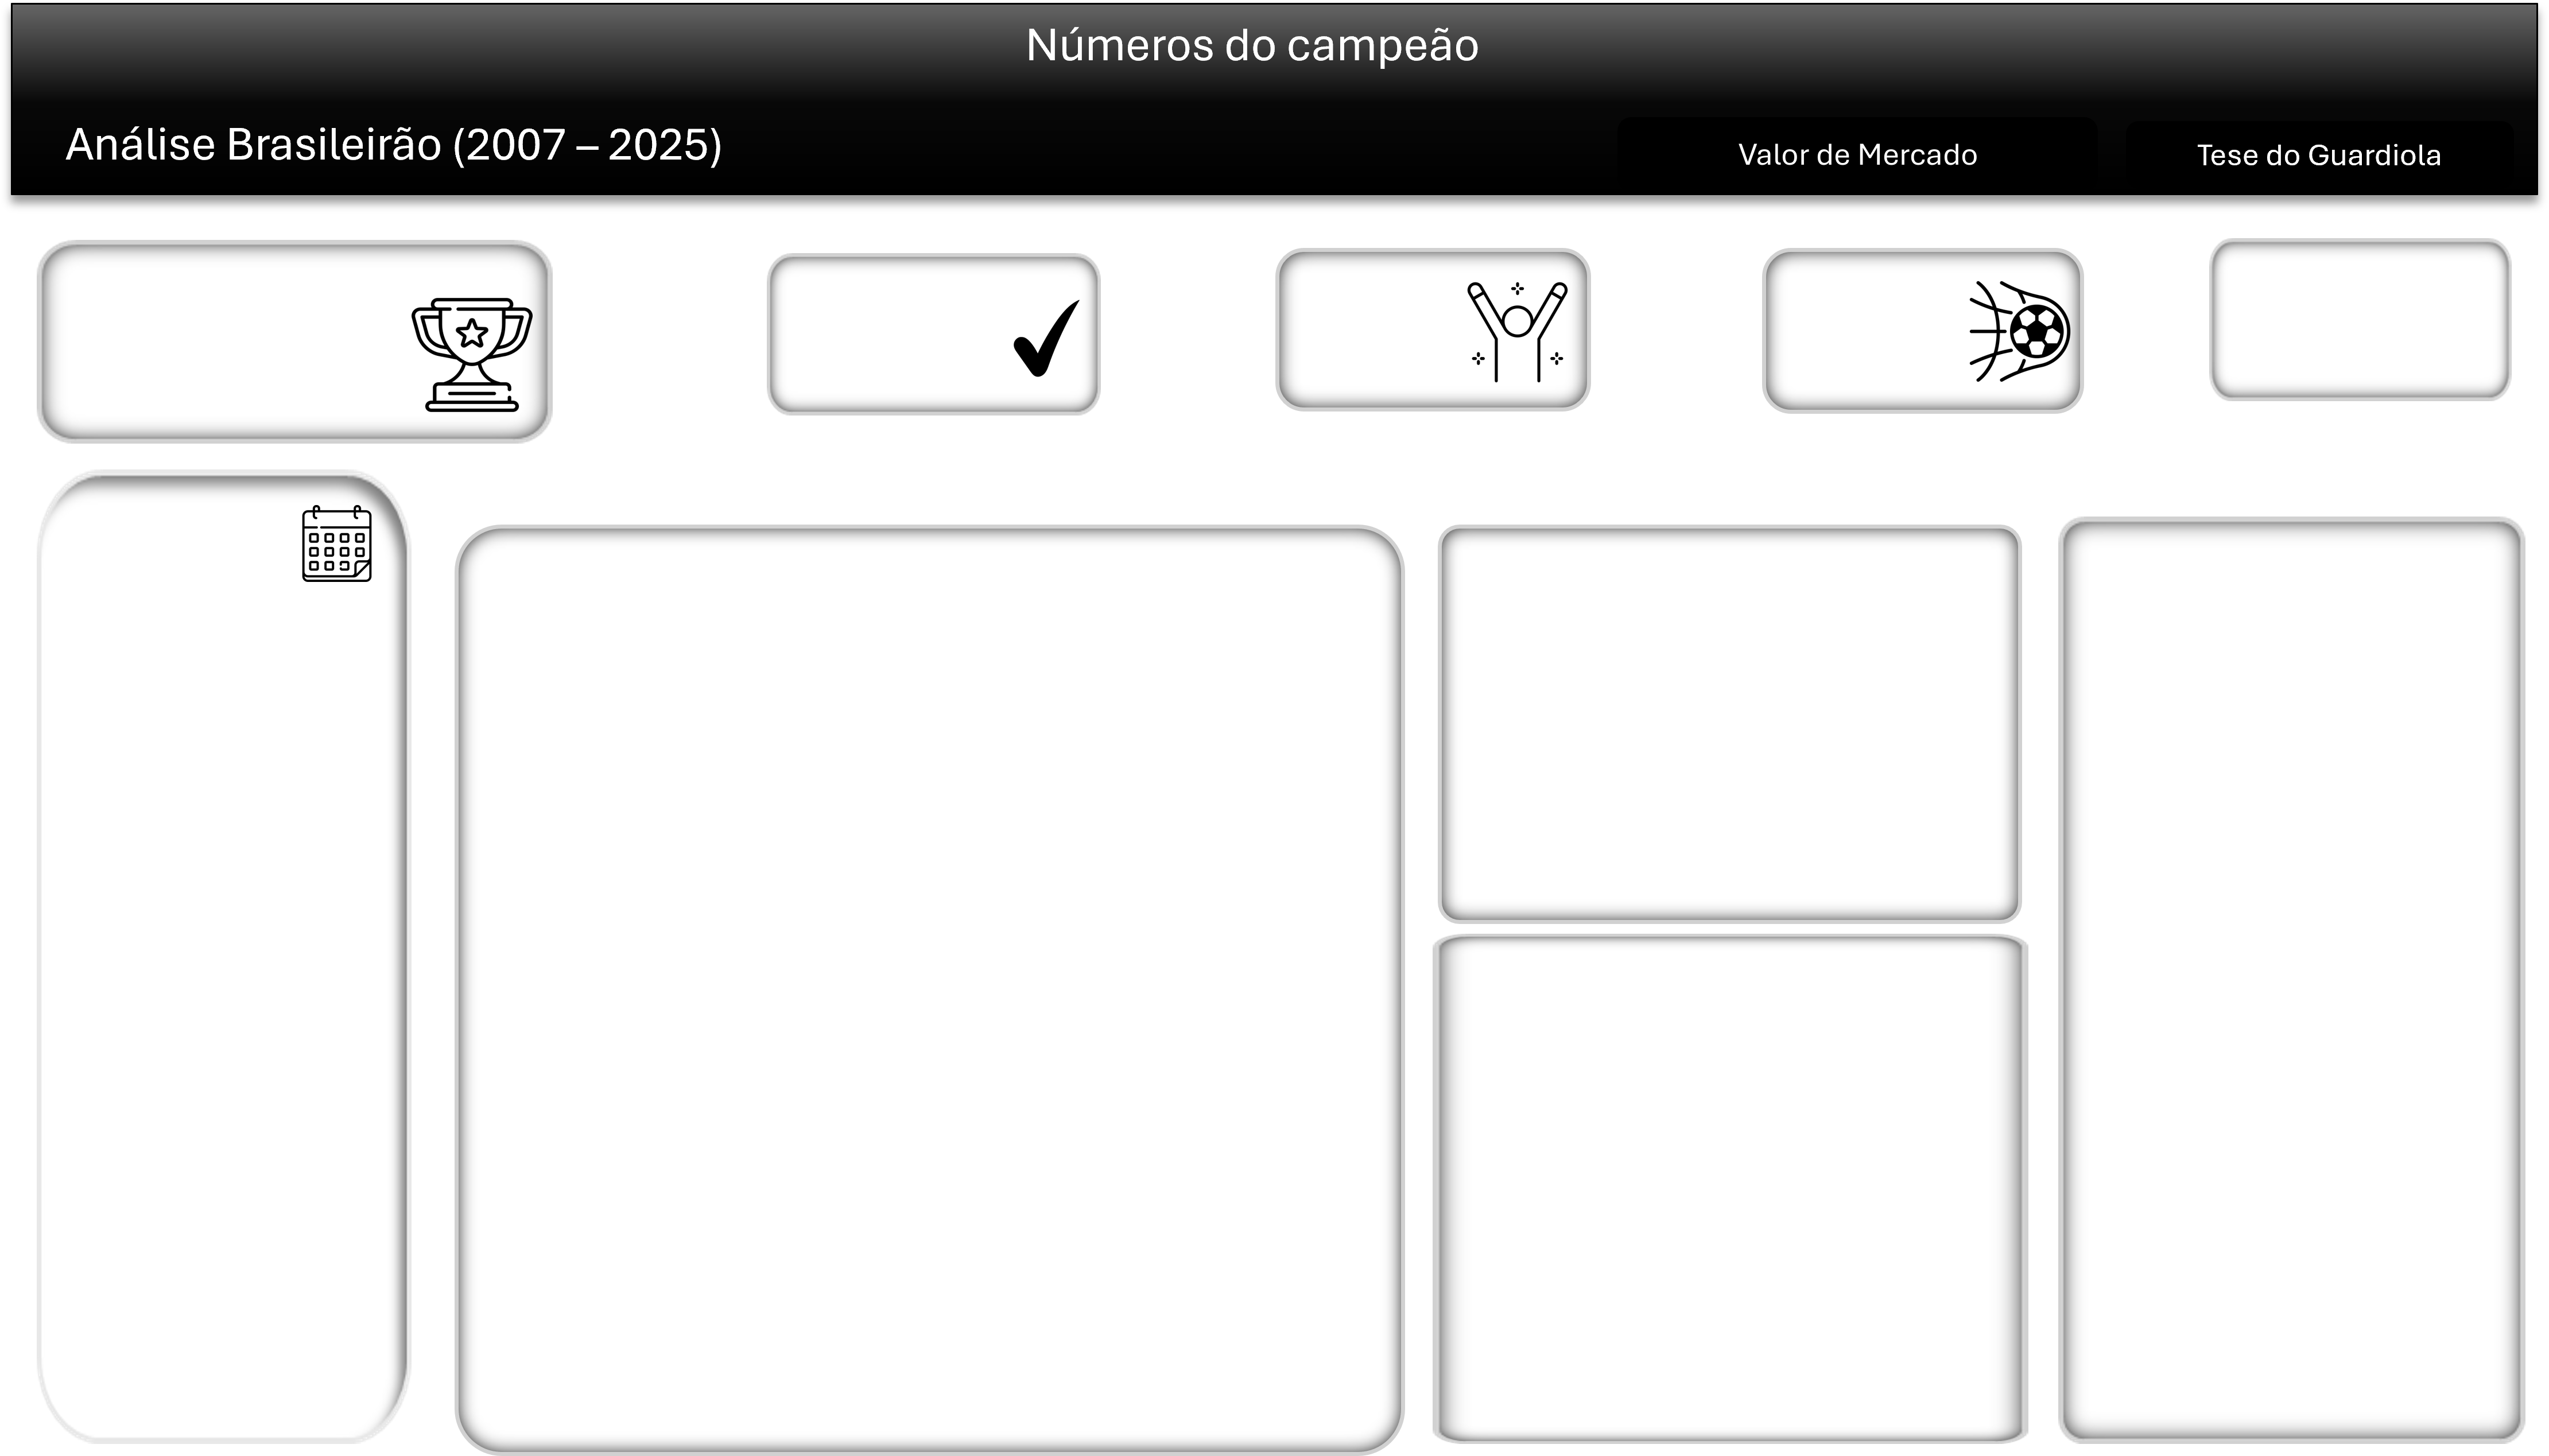

This screenshot's page, from the dashboard's own definition file:
{"tool":"powerbi","page":{"name":"Página 1","canvas":[1280,720],"ordinal":0},"visuals":[{"type":"slicer","fields":{"Values":["fato_desempenho.temporada"]},"box":[31.9,280.1,120.4,431.3],"z":0},{"type":"card","title":"Aproveitamento","fields":{"Values":["fato_desempenho.Aproveitamento Campeao"]},"box":[1099,117.3,165.9,70],"z":1000},{"type":"card","title":"Campeão","fields":{"Values":["fato_desempenho.Campeao Final"]},"box":[7.4,118.6,226.7,81.7],"z":2000},{"type":"card","title":"Vitórias","fields":{"Values":["fato_desempenho.Vitorias Campeao"]},"box":[629.7,124.7,138.2,70],"z":3000},{"type":"card","title":"Pontuação","fields":{"Values":["fato_desempenho.Pontos Campeao"]},"box":[395,124.7,129.6,70],"z":4000},{"type":"lineChart","title":"Posição a cada rodada","fields":{"Category":["fato_desempenho.rodada"],"Y":["fato_desempenho.Posicao Campeao por Rodada"]},"box":[238.4,267.8,460.8,434.9],"z":5000},{"type":"clusteredBarChart","fields":{"Y":["fato_desempenho.Gols Pro Campeao","fato_desempenho.Gols Contra Campeao"]},"box":[726.1,256.2,280.1,189.2],"z":6000},{"type":"card","title":"Saldo de Gols","fields":{"Values":["fato_desempenho.Saldo Campeao"]},"box":[867.4,123.5,153,72.5],"z":7000},{"type":"textbox","box":[1040.7,256.2,224.2,455.2],"z":8000},{"type":"clusteredBarChart","title":"Maiores vencedores  neste período","fields":{"Category":["fato_desempenho.time"],"Y":["fato_desempenho.Títulos Top 4 Campeões"]},"box":[726.1,465.7,280.1,245.7],"z":9000},{"type":"actionButton","box":[822,49.8,224.8,39.9],"z":10000},{"type":"actionButton","box":[1087.4,49.8,168.3,39.9],"z":11000}]}

Visuals, with their boxes in screenshot pixels (x1, y1, x2, y2), scaled from the page's 1280x720 canvas onto the 2549x1456 screenshot:
slicer - fato_desempenho.temporada: left=64, top=566, right=303, bottom=1439
"Aproveitamento" card: left=2189, top=237, right=2519, bottom=379
"Campeão" card: left=15, top=240, right=466, bottom=405
"Vitórias" card: left=1254, top=252, right=1529, bottom=394
"Pontuação" card: left=786, top=252, right=1045, bottom=394
"Posição a cada rodada" lineChart: left=475, top=542, right=1392, bottom=1421
clusteredBarChart - fato_desempenho.Gols Pro Campeao x fato_desempenho.Gols Contra Campeao: left=1446, top=518, right=2004, bottom=900
"Saldo de Gols" card: left=1727, top=250, right=2032, bottom=397
textbox: left=2073, top=518, right=2519, bottom=1439
"Maiores vencedores  neste período" clusteredBarChart: left=1446, top=942, right=2004, bottom=1439
actionButton: left=1637, top=100, right=2085, bottom=181
actionButton: left=2166, top=100, right=2501, bottom=181
